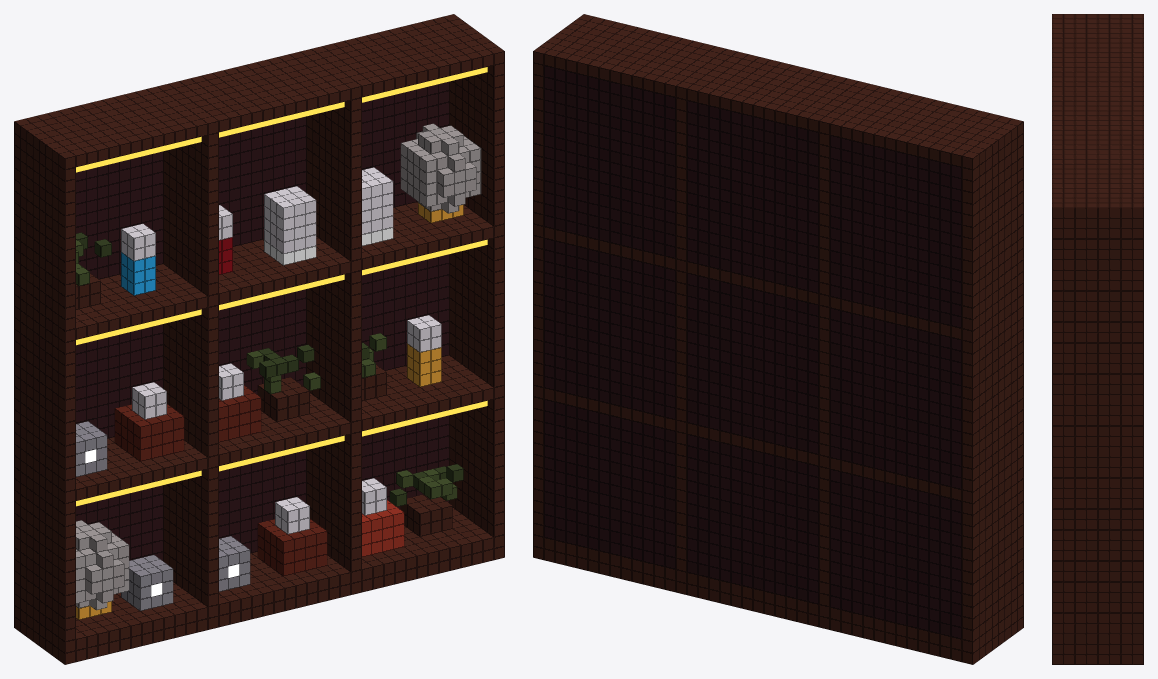
The model's file is collectibles_shelf.glb.
3 renders of one model, left to right at view 1: azimuth 30°, elevation 25°; view 2: azimuth 150°, elevation 25°; view 3: azimuth 270°, elevation 25°, orthographic. The views are drawn at different scales.
Visible parts, largest first — view 1: collectibles_shelf; view 2: collectibles_shelf; view 3: collectibles_shelf.
Boxes of the visible parts, x1,y1,x2,y2 form: collectibles_shelf: (14, 14, 504, 664); collectibles_shelf: (533, 14, 1023, 664); collectibles_shelf: (1052, 14, 1143, 664).
Bounding box in the file's own units: 2 × 2.2 × 0.4.
Materials: 15 (13 with a texture image).
